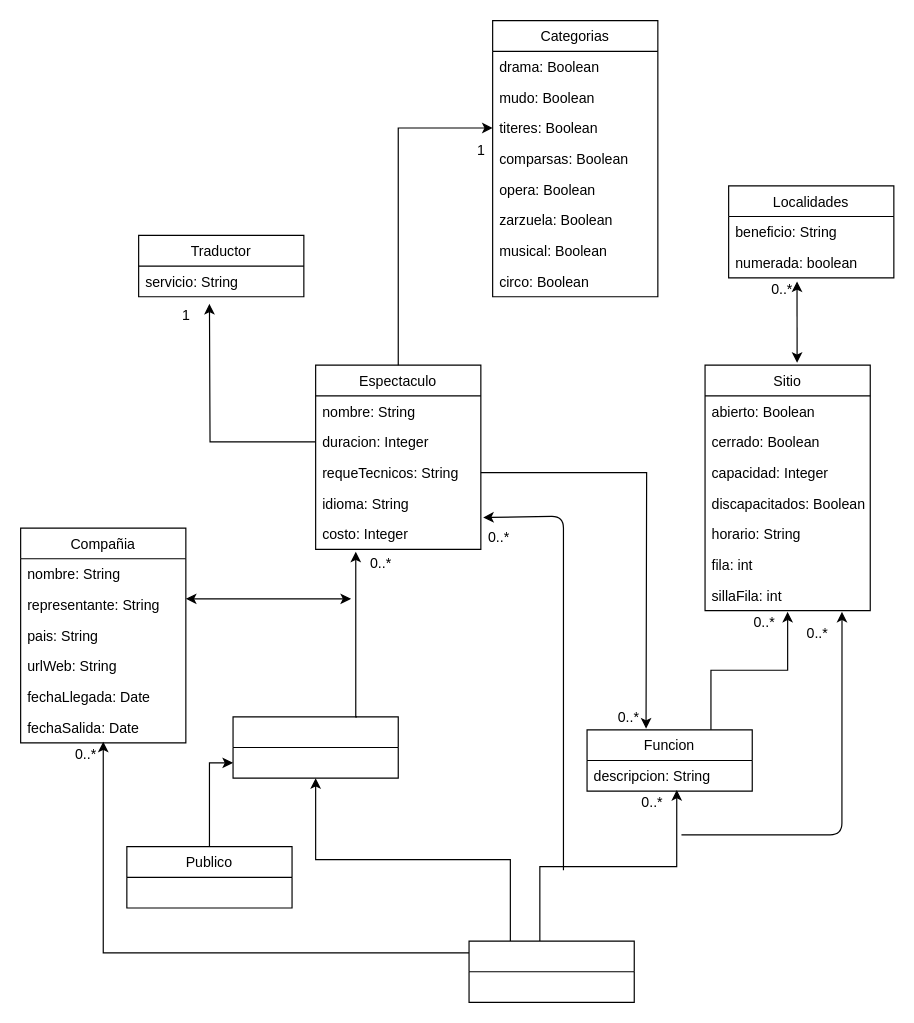
This 914x1023 diagram has some shape labels left out. Here are the shapes that lost their labels. From the top down, the centre of each, then its label:
At [315,747]: "Festivandes".
At [551,971]: "Organizadores".
